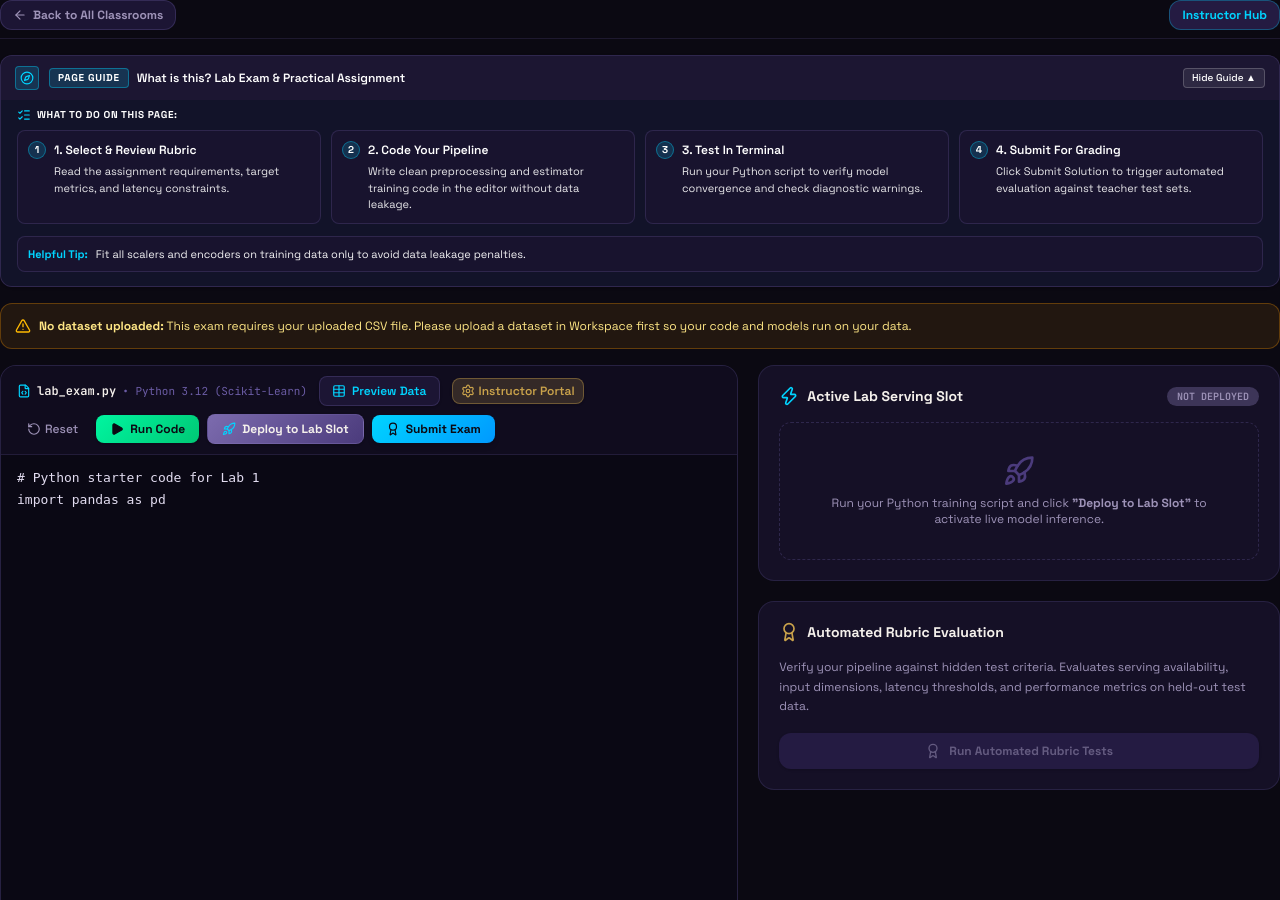
Test: University Lab Exam ClassroomHub › renders Preview Data button and opens the dataset preview modal
Check: the text "Preview Data" is shown, box [352, 383, 426, 399]
// Click Preview Data
What coordinates should you click on to do the following:
click the button "Preview Data"
I would click on:
 (379, 391)
Its box is [319, 376, 440, 406].
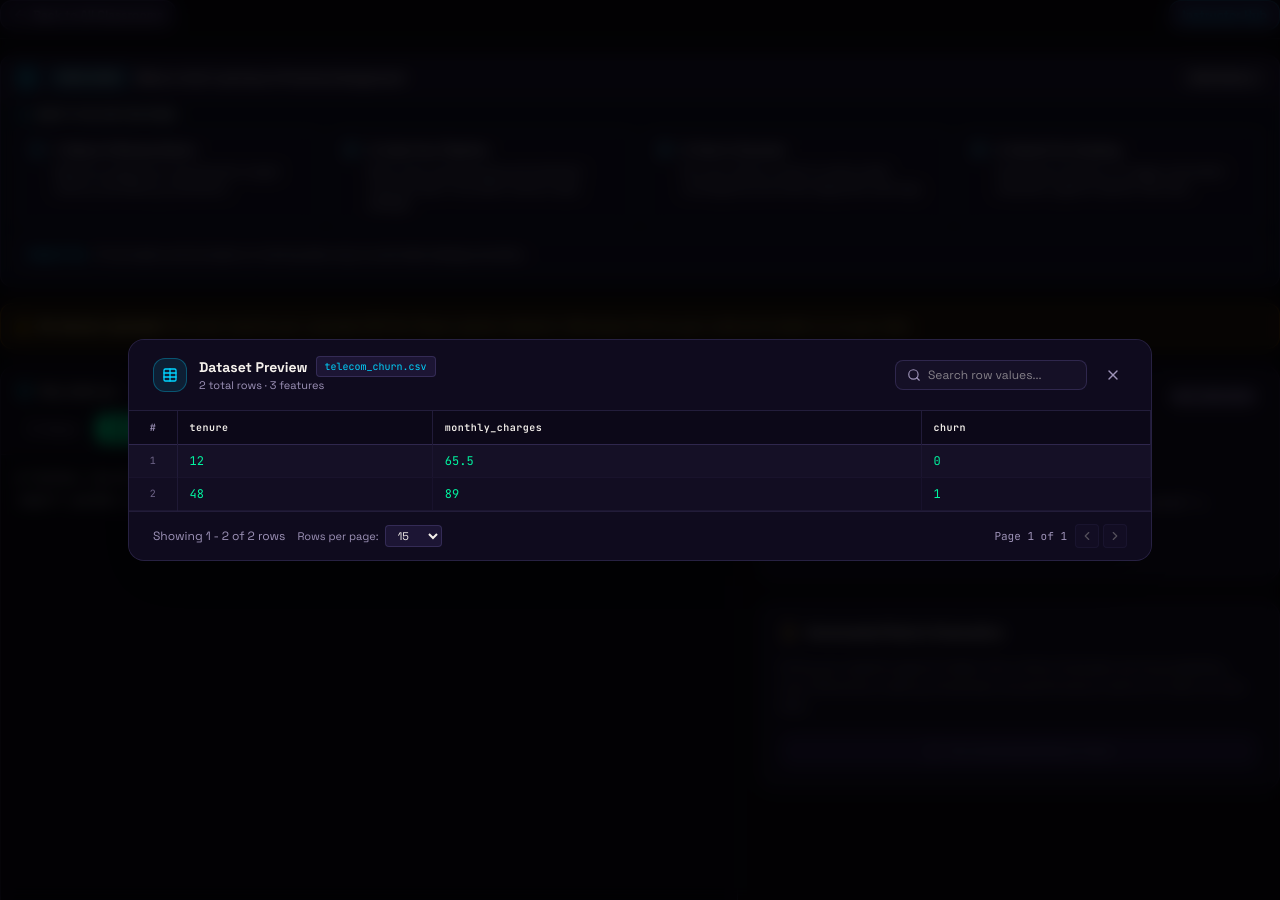
Check: the heading "Dataset Preview" is shown, box [199, 357, 308, 377]
Check: the text "telecom_churn.csv" is shown, box [316, 356, 436, 377]
Check: the text "2 total rows · 3 features" is shown, box [199, 378, 324, 392]
